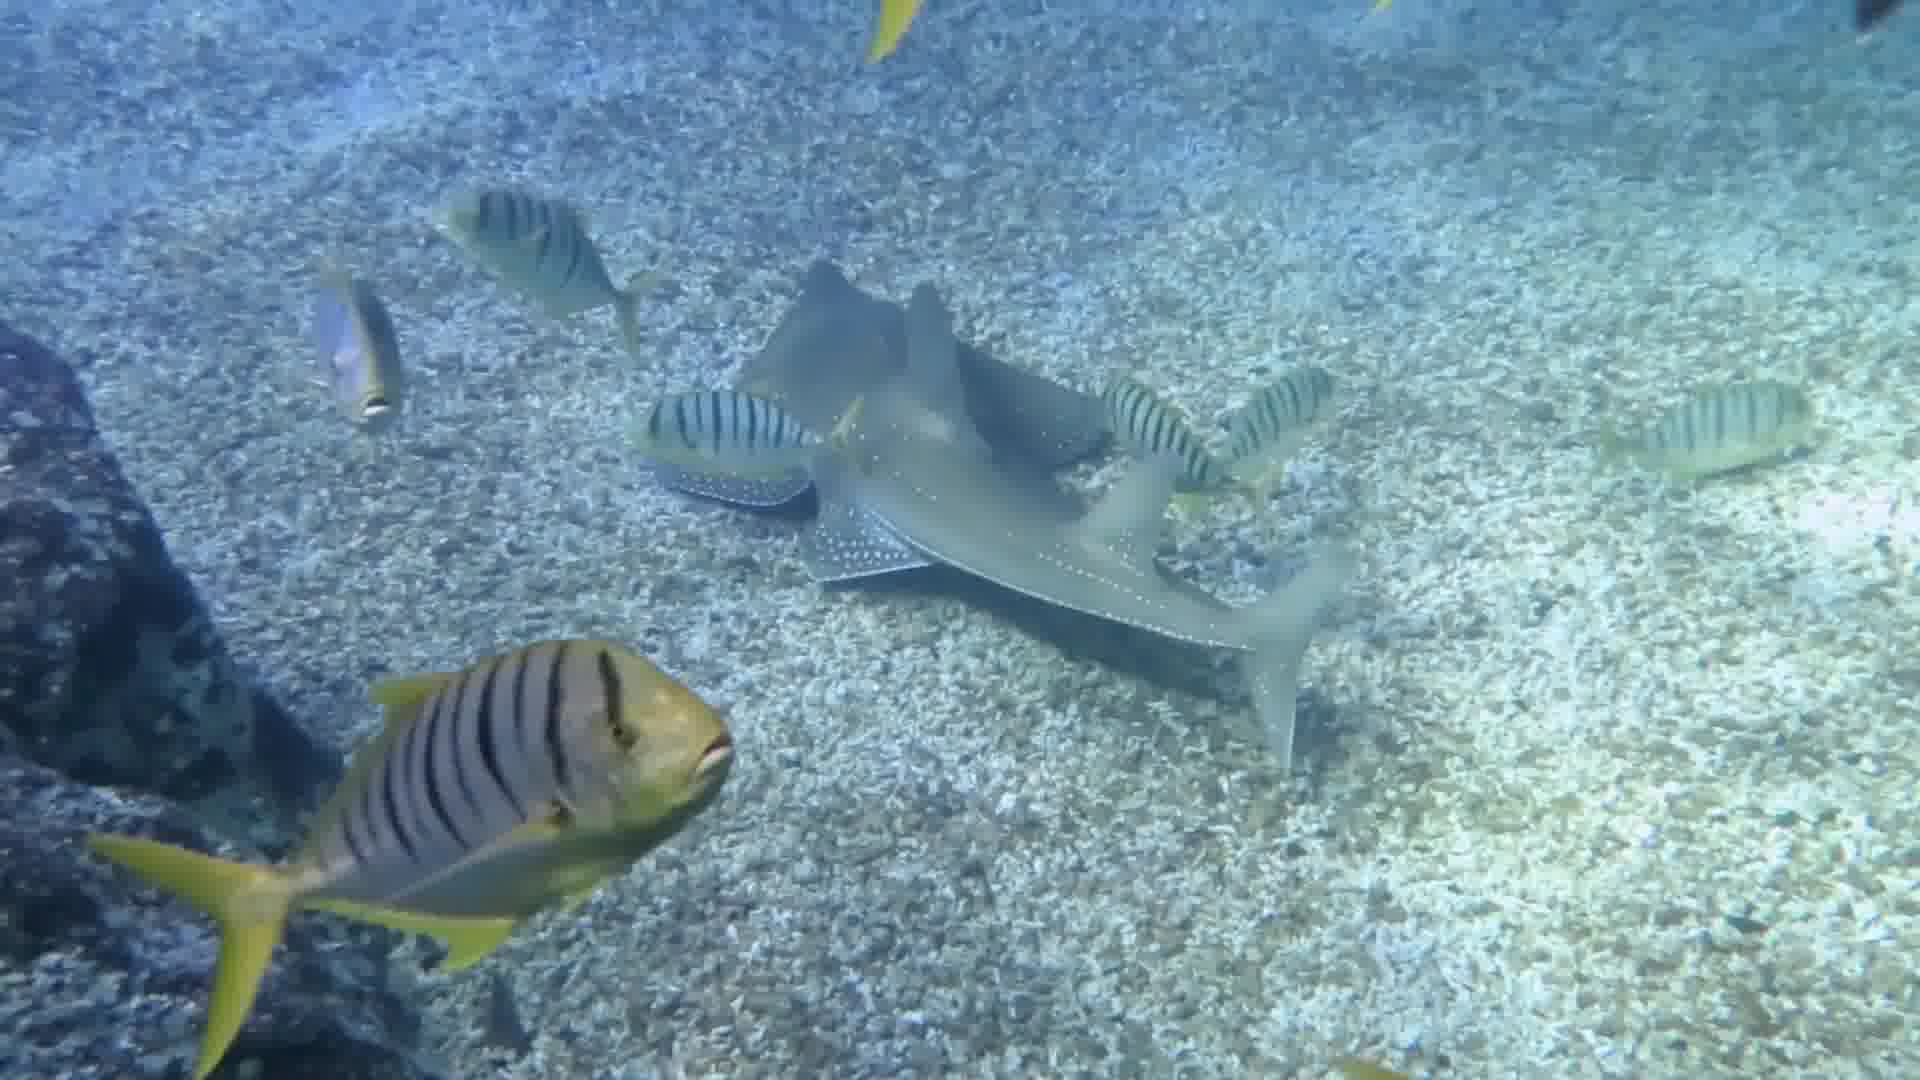Rhychobatus djiddensis: (705, 204, 1362, 794)
